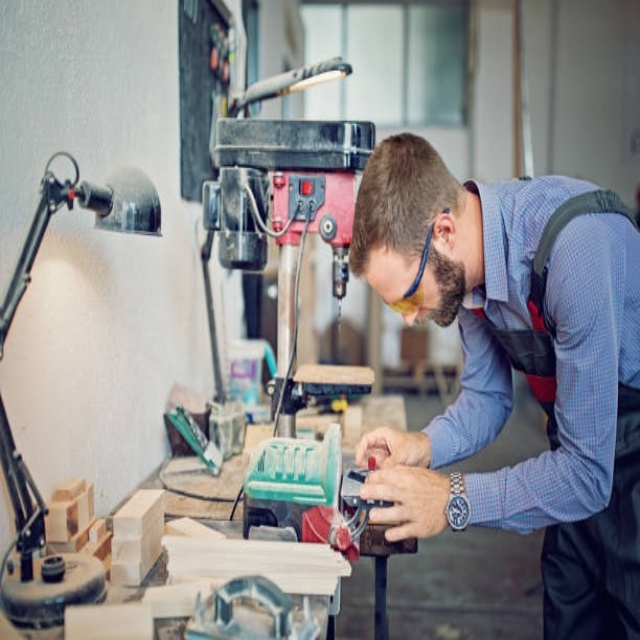Gafas: (388, 205, 446, 317)
Sin_guantes: (358, 461, 453, 541), (355, 414, 432, 471)
Sin_mascara: (410, 306, 451, 337)
